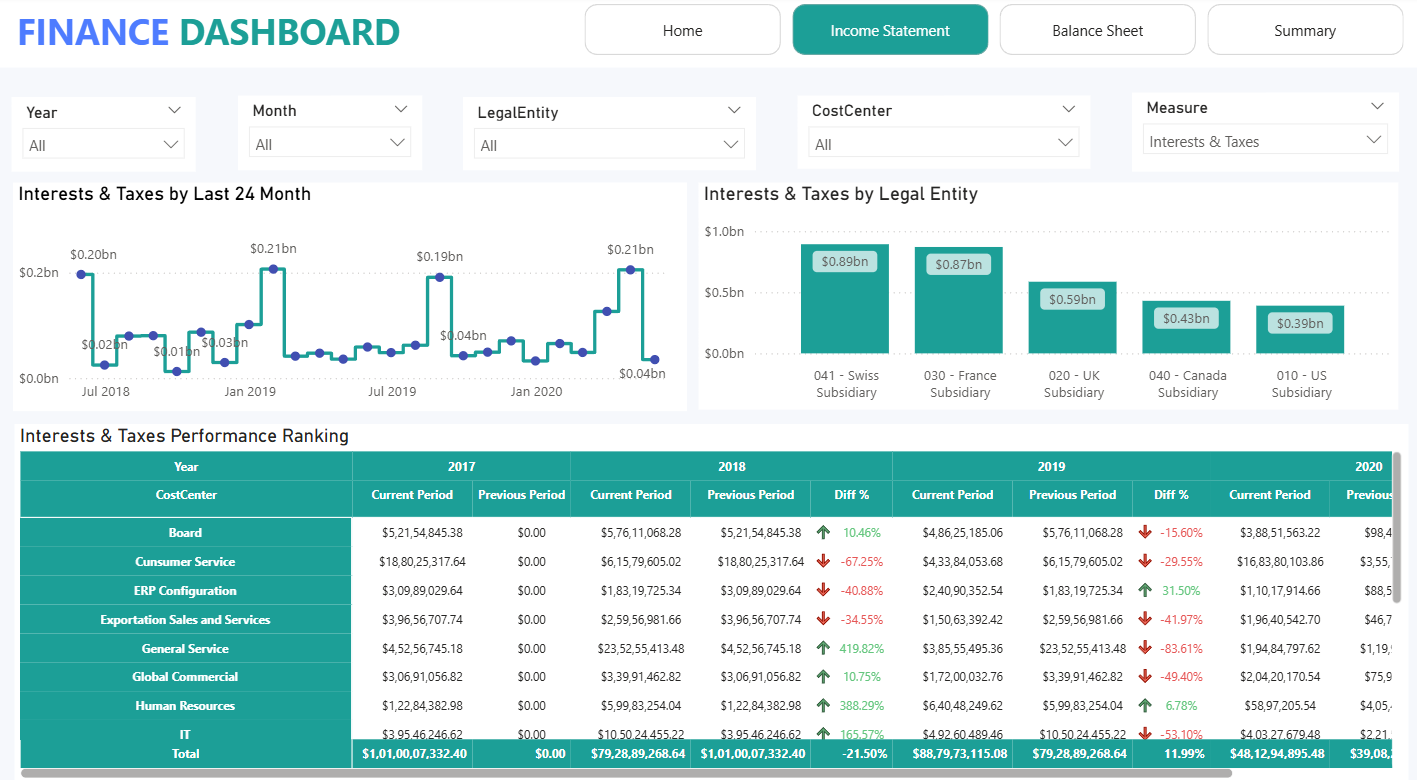

What the dashboard file says about the page in this screenshot:
{"tool":"powerbi","page":{"name":"Income Statement","canvas":[1280,720],"ordinal":1},"visuals":[{"type":"slicer","fields":{"Values":["Income Statement.Name"]},"box":[1021.8,87.9,240.3,71.4],"z":0},{"type":"slicer","fields":{"Values":["DimDate.Year"]},"box":[12,92,166,67],"z":1000},{"type":"slicer","fields":{"Values":["DimDate.MonthName"]},"box":[215.6,90.6,166,67],"z":3000},{"type":"lineChart","fields":{"Category":["FactFinancial.Date"],"Y":["DAX Measures.Base Measure"]},"box":[14,169,607,206],"z":4000},{"type":"lineStackedColumnComboChart","fields":{"Category":["LegalEntity.LegalEntity"],"Y":["DAX Measures.Base Measure"]},"box":[631.8,168.9,630.4,204.6],"z":5000},{"type":"pivotTable","fields":{"Rows":["CostCenter.CostCenter"],"Columns":["DimDate.Year","TimeCal.Name"],"Values":["DAX Measures.Base Measure"]},"box":[15.1,385.9,1255.3,324.1],"z":6000},{"type":"slicer","fields":{"Values":["LegalEntity.LegalEntity"]},"box":[419.2,92,263.7,65.9],"z":7000},{"type":"slicer","fields":{"Values":["CostCenter.CostCenter"]},"box":[720.5,90.6,263.7,65.9],"z":8000},{"type":"actionButton","box":[598.2,21.5,109.9,38.2],"z":9000},{"type":"actionButton","box":[934.9,21.5,157.6,38.2],"z":10000},{"type":"actionButton","box":[1109.3,21.5,140.9,38.2],"z":11000},{"type":"shape","box":[0,0,1280,65],"z":12000},{"type":"textbox","box":[12,5,368,55],"z":13000},{"type":"pageNavigator","box":[528,8,740,46],"z":14000}]}

Visuals, with their boxes in screenshot pixels (x1, y1, x2, y2), scaled from the page's 1280x720 canvas onto the 1417x780 screenshot:
slicer - Income Statement.Name: BBox(1131, 95, 1397, 173)
slicer - DimDate.Year: BBox(13, 100, 197, 172)
slicer - DimDate.MonthName: BBox(239, 98, 422, 171)
lineChart - FactFinancial.Date x DAX Measures.Base Measure: BBox(15, 183, 687, 406)
lineStackedColumnComboChart - LegalEntity.LegalEntity x DAX Measures.Base Measure: BBox(699, 183, 1397, 405)
pivotTable - CostCenter.CostCenter x DimDate.Year: BBox(17, 418, 1406, 769)
slicer - LegalEntity.LegalEntity: BBox(464, 100, 756, 171)
slicer - CostCenter.CostCenter: BBox(798, 98, 1090, 170)
actionButton: BBox(662, 23, 784, 65)
actionButton: BBox(1035, 23, 1209, 65)
actionButton: BBox(1228, 23, 1384, 65)
shape: BBox(0, 0, 1416, 70)
textbox: BBox(13, 5, 421, 65)
pageNavigator: BBox(585, 9, 1404, 58)
